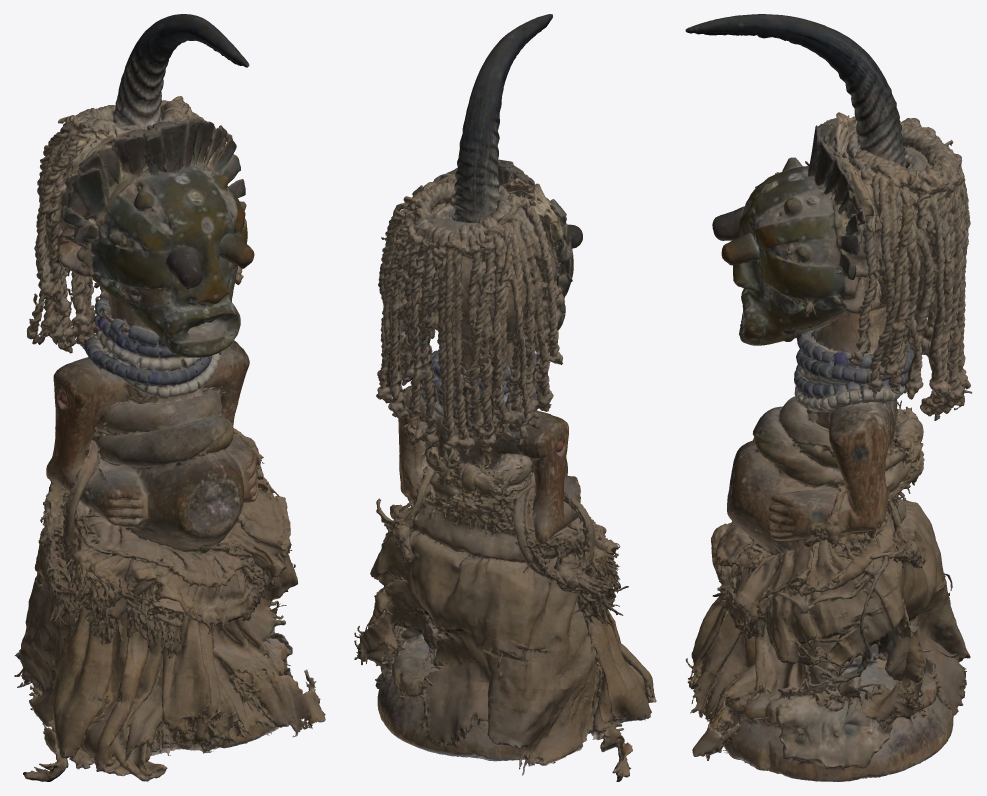
File: preview.glb
The picture shows the model from 3 angles, left to right: view 1: azimuth 30°, elevation 25°; view 2: azimuth 150°, elevation 25°; view 3: azimuth 270°, elevation 25°; orthographic projection. The views are drawn at different scales.
Parts seen in each view (by area): view 1: Object_2; view 2: Object_2; view 3: Object_2.
Part boxes in pixels (x1,y1,x2,y2): Object_2: [14, 14, 325, 781]; Object_2: [354, 14, 656, 781]; Object_2: [685, 14, 972, 781].
Bounding box in the file's own units: 0.2429 × 0.6645 × 0.2299.
1 material, 1 textured.
